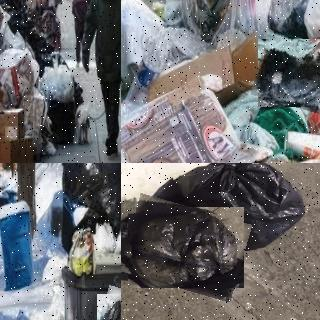Garbage: (124, 200, 248, 295), (175, 163, 306, 251), (254, 34, 320, 111), (59, 163, 121, 237)
